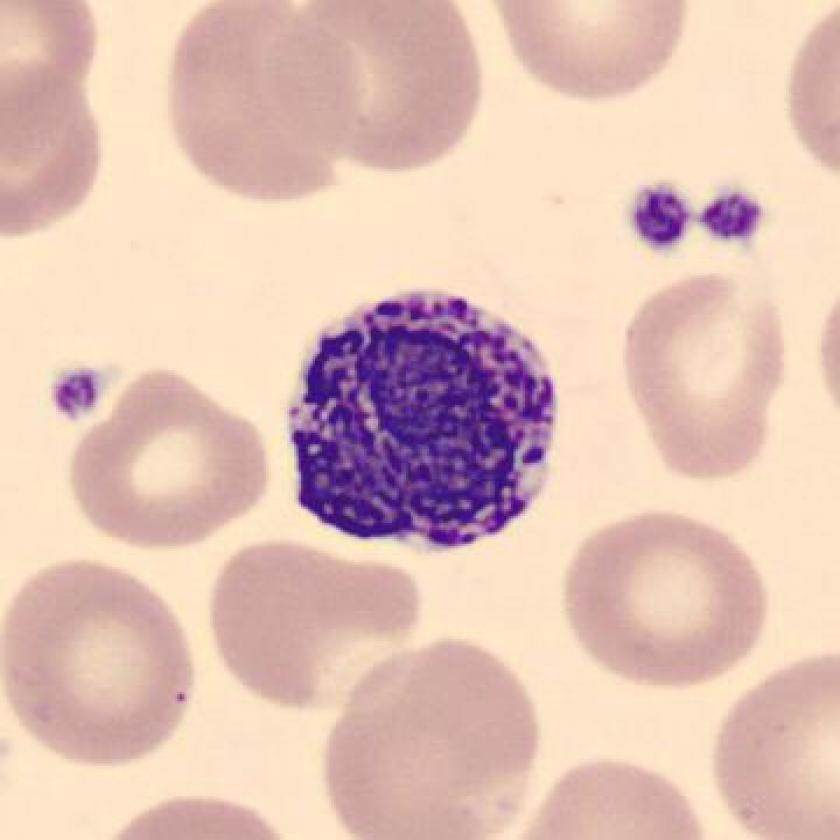basophil: (281, 293, 566, 561)
